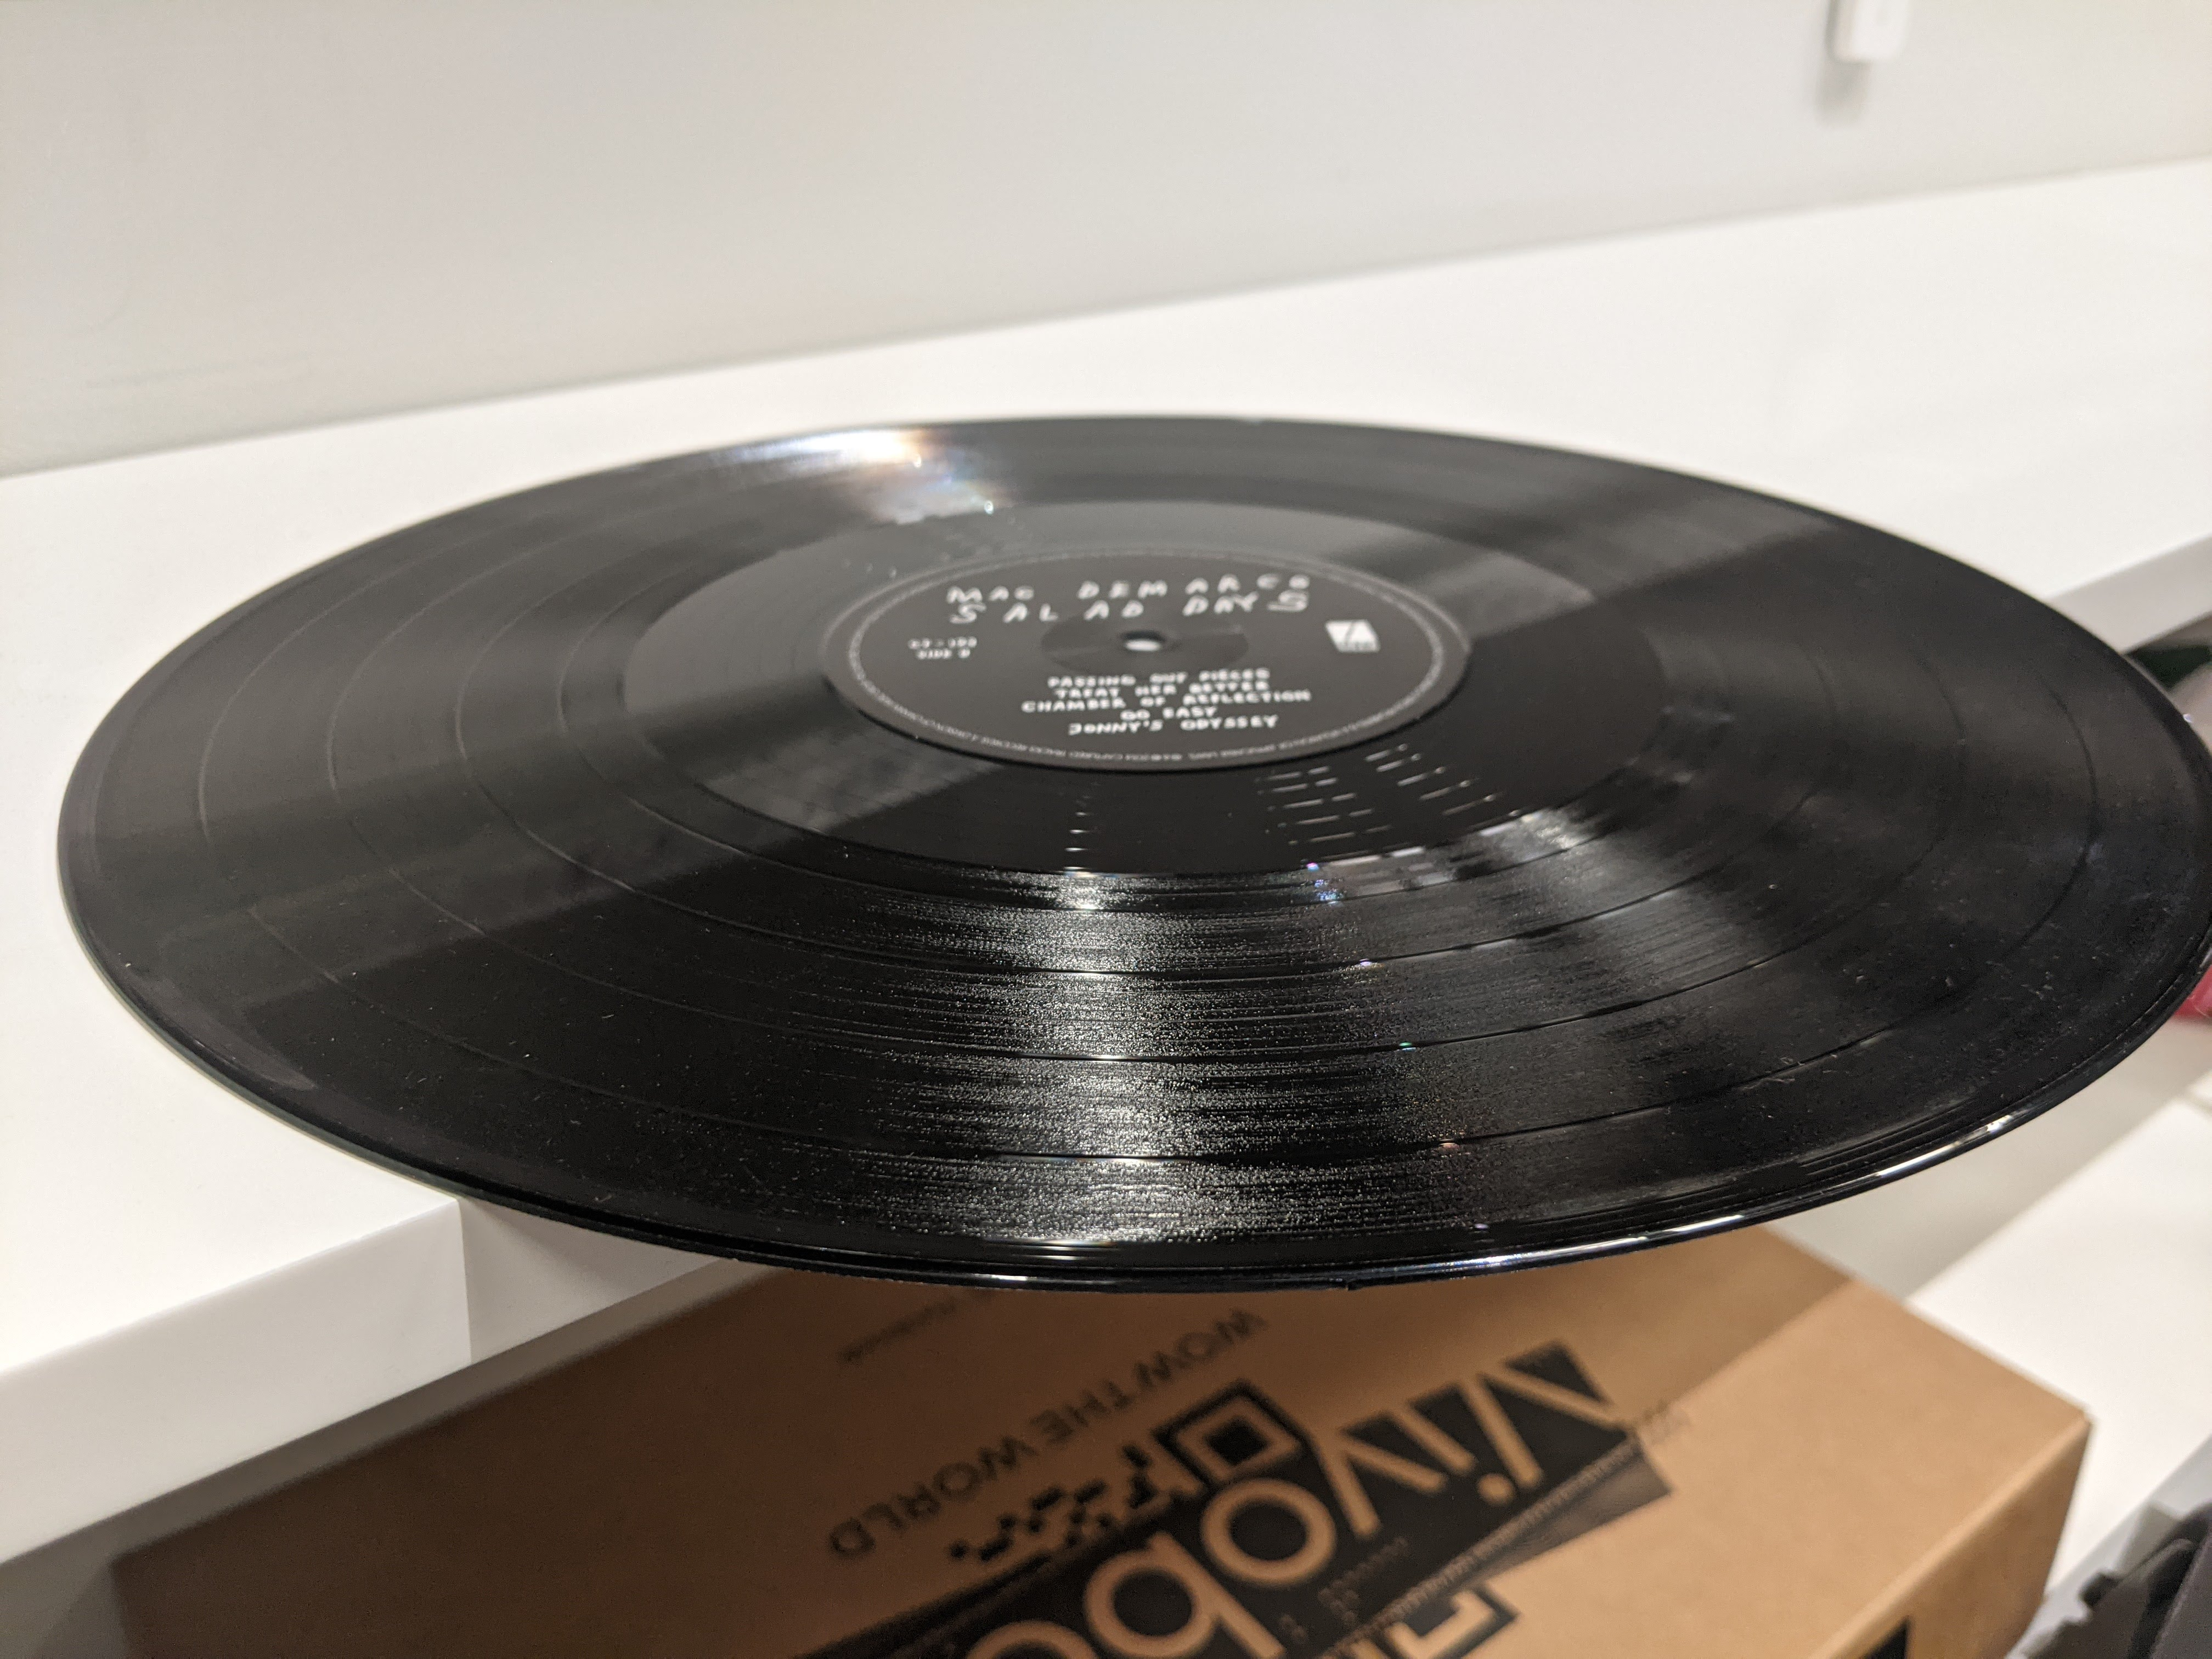song_edge: (167, 786, 277, 934), (303, 758, 411, 894), (432, 739, 543, 852), (536, 680, 601, 758)
